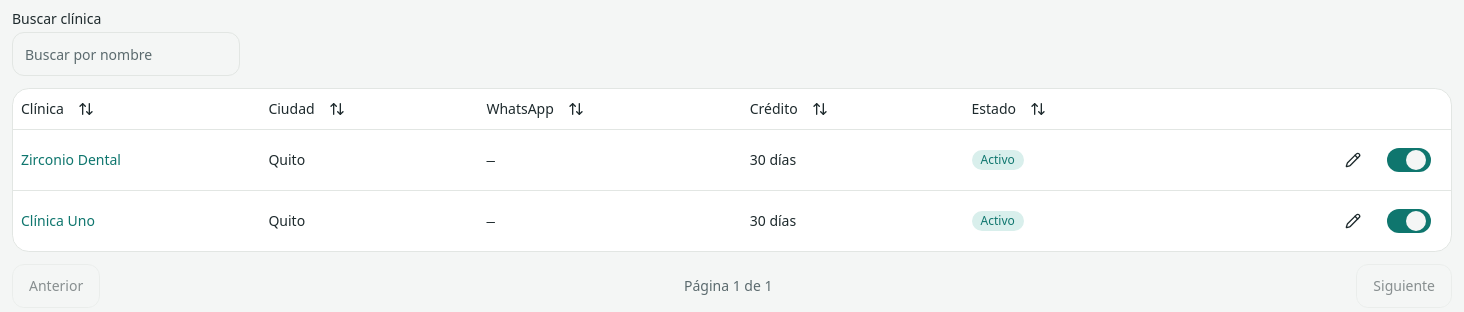
ClinicsTable › ordena por nombre al pulsar la cabecera
The width and height of the screenshot is (1464, 312).
Click the button named "Ordenar por Clínica".
click(86, 109)  # box [68,91,104,127]
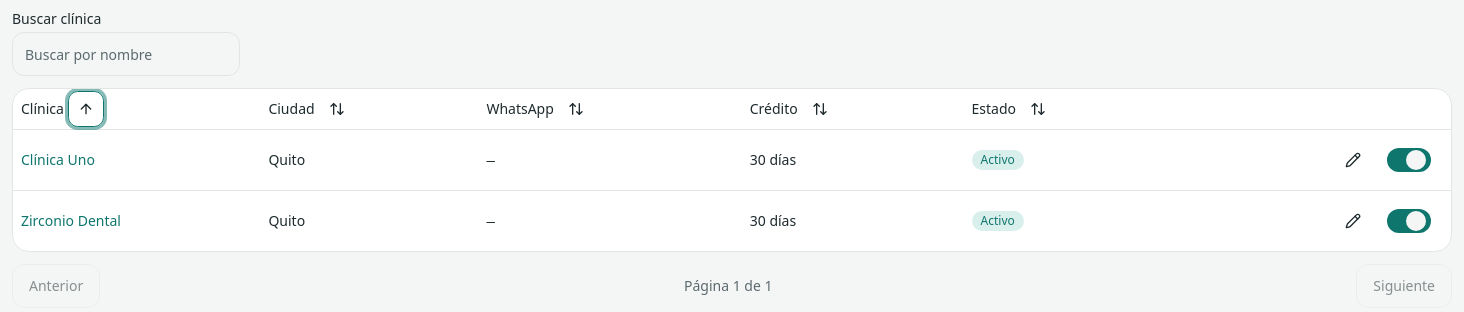
Expected: the links read "Clínica Uno", "Zirconio Dental", in this order, [21,150,95,168]; [21,210,121,230]
